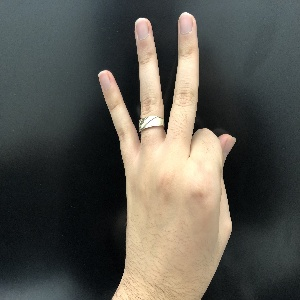hand: (99, 12, 236, 276)
